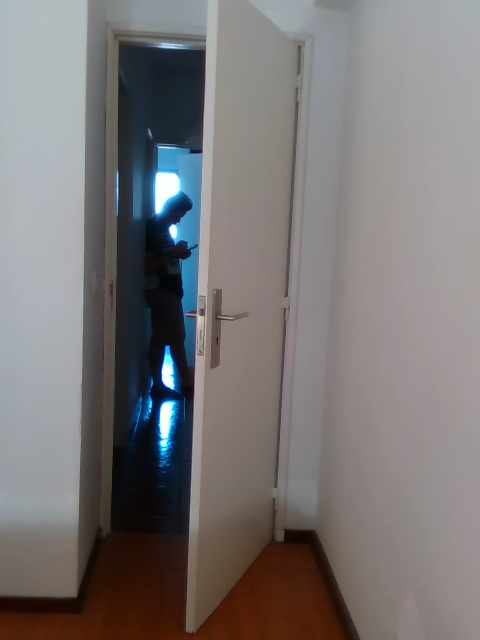semi: (95, 1, 312, 633)
